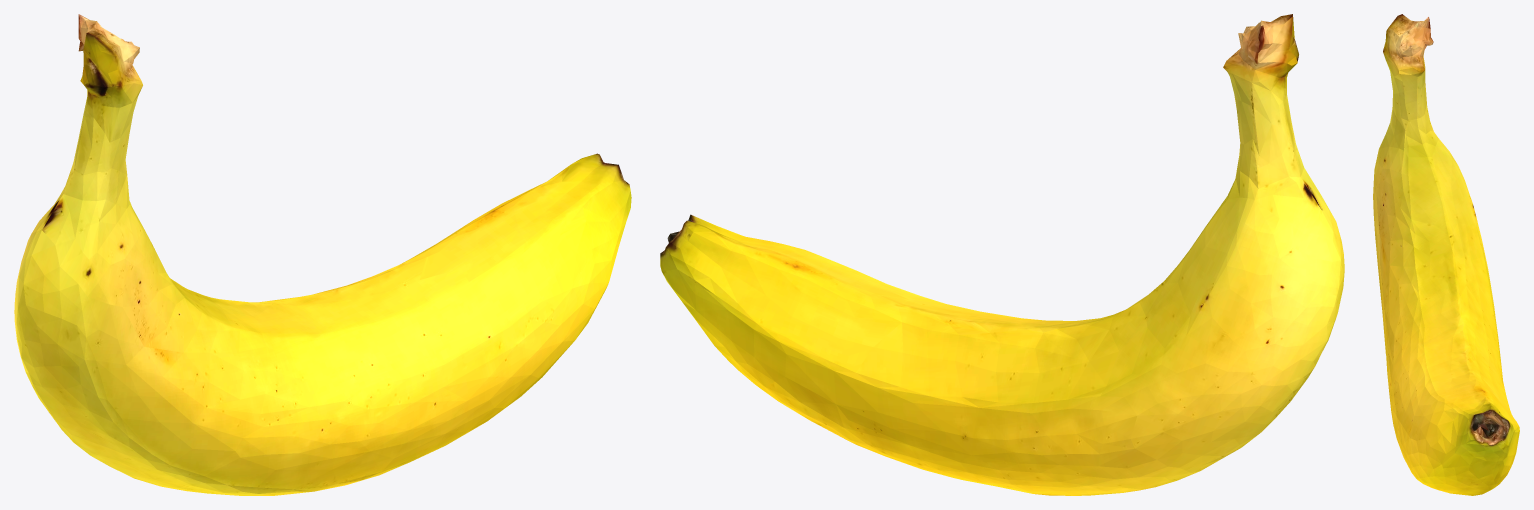
The model's file is banana-transformed.glb.
3 renders of one model, left to right at view 1: azimuth 30°, elevation 25°; view 2: azimuth 150°, elevation 25°; view 3: azimuth 270°, elevation 25°, orthographic. The views are drawn at different scales.
Visible parts, largest first — view 1: Object_35; view 2: Object_35; view 3: Object_35.
Boxes of the visible parts, x1=… form: Object_35: x1=14, y1=14, x2=631, y2=495; Object_35: x1=660, y1=14, x2=1344, y2=495; Object_35: x1=1373, y1=14, x2=1519, y2=495.
Bounding box in the file's own units: 6.62 × 5.14 × 1.91.
1 material, 1 textured.
